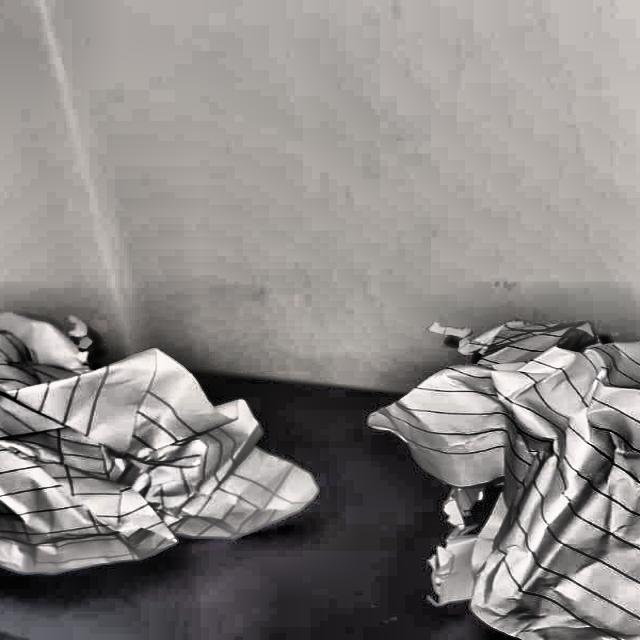paper: (0, 302, 334, 571), (392, 293, 640, 640)
